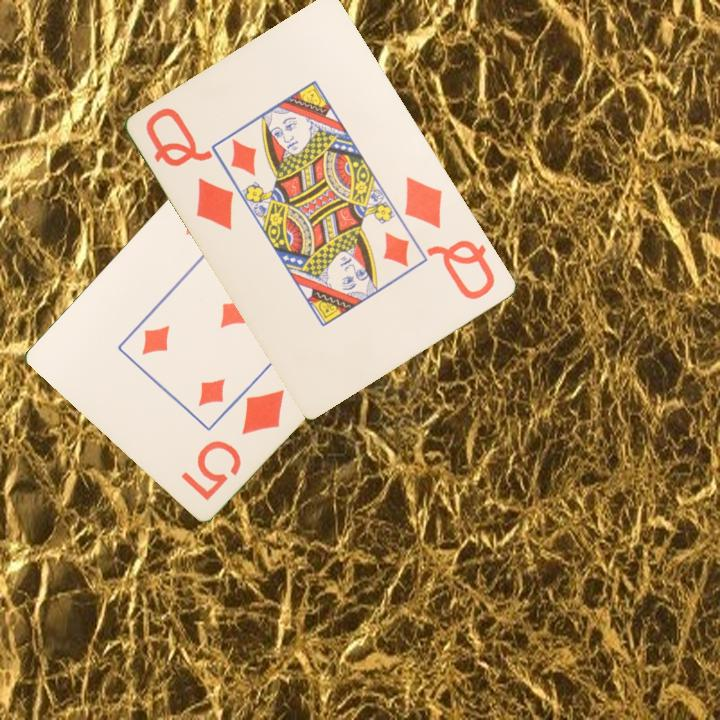5d: (177, 384, 288, 503)
Qd: (401, 173, 499, 303), (142, 103, 238, 234)
